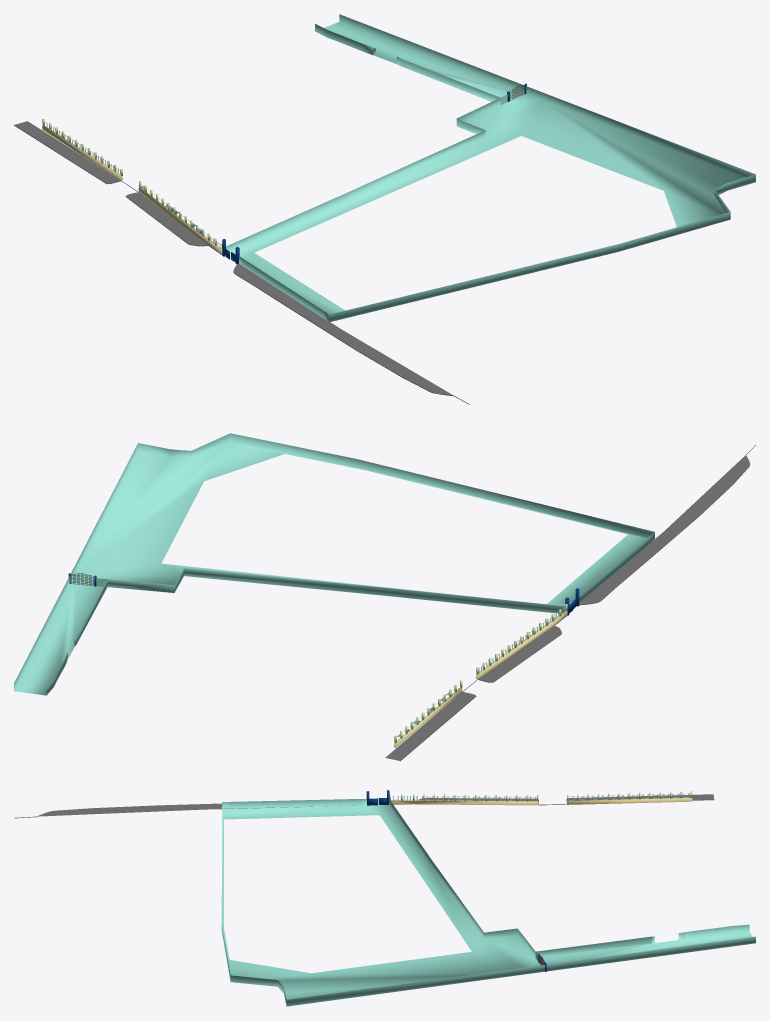
The model's file is wall.obj.
3 renders of one model, top to bottom at view 1: azimuth 30°, elevation 25°; view 2: azimuth 150°, elevation 25°; view 3: azimuth 270°, elevation 25°, orthographic. The views are drawn at different scales.
Parts seen in each view (by area): view 1: Line3400, __012; view 2: Line3400, __012, Line3406; view 3: Line3400, __012, Line3406, Line3433.
Boxes of the visible parts, bbox=[...] form: Line3400: bbox=[226, 14, 755, 322]; __012: bbox=[14, 121, 453, 395]; Line3400: bbox=[14, 433, 654, 695]; __012: bbox=[385, 455, 749, 760]; Line3406: bbox=[476, 611, 567, 678]; Line3400: bbox=[221, 799, 755, 1006]; __012: bbox=[37, 794, 714, 816]; Line3406: bbox=[391, 800, 538, 805]; Line3433: bbox=[567, 797, 692, 804].
Bounding box in the file's own units: 6366 × 197 × 9398.
